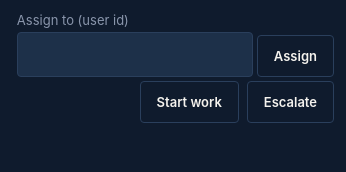
Test: IssueRowActions — assign › shows the action-returned error message when assign fails
In the field labelled "Assign to (user id)": {"x": 135, "y": 54} [17, 32, 253, 77], type "user-7"
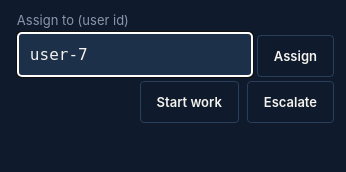
Click the button "Assign": {"x": 295, "y": 56} [257, 35, 334, 77]
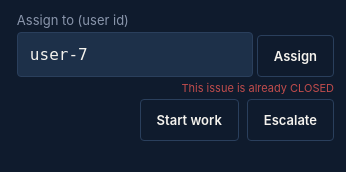
Check: the text "This issue is already CLOSED" is shown, box [182, 81, 334, 95]
